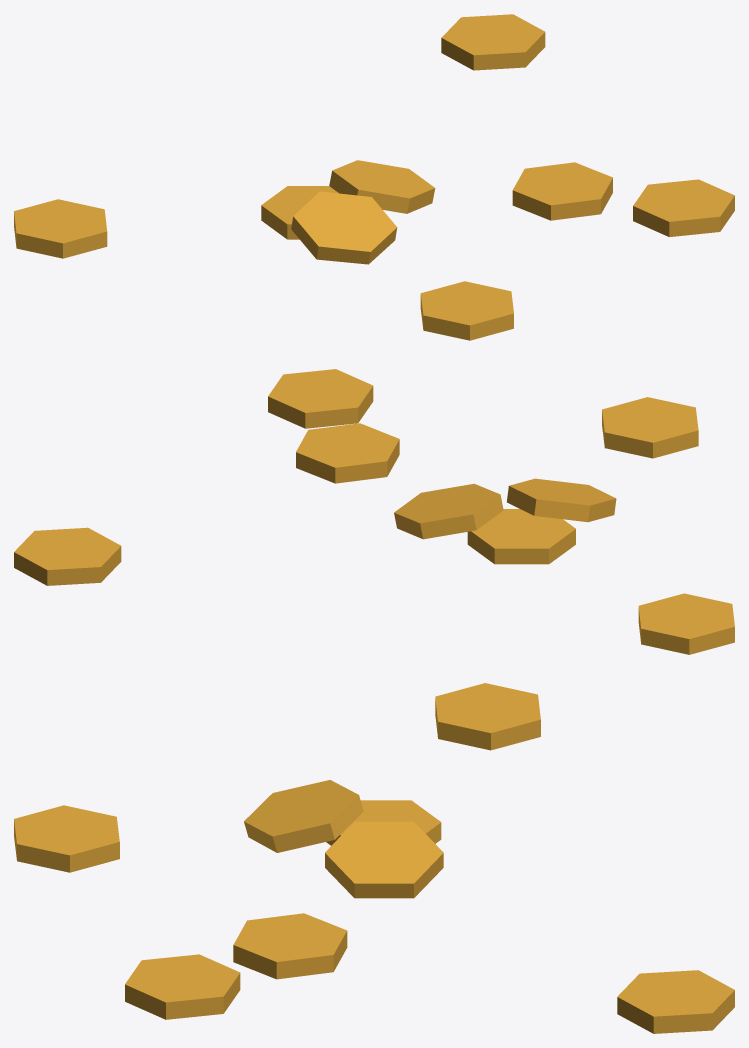
The model's file is Coin_2.fbx.
3 renders of one model, top to bottom at view 1: azimuth 30°, elevation 25°; view 2: azimuth 150°, elevation 25°; view 3: azimuth 270°, elevation 25°, orthographic. The views are drawn at different scales.
Parts seen in each view (by area): view 1: Coin_2; view 2: Coin_2; view 3: Coin_2.
Boxes of the visible parts, x1,y1,x2,y2 form: Coin_2: [14, 14, 734, 340]; Coin_2: [14, 369, 734, 654]; Coin_2: [14, 683, 734, 1033].
Size of the model in its own units: 41.31 by 2.45 by 37.73.
